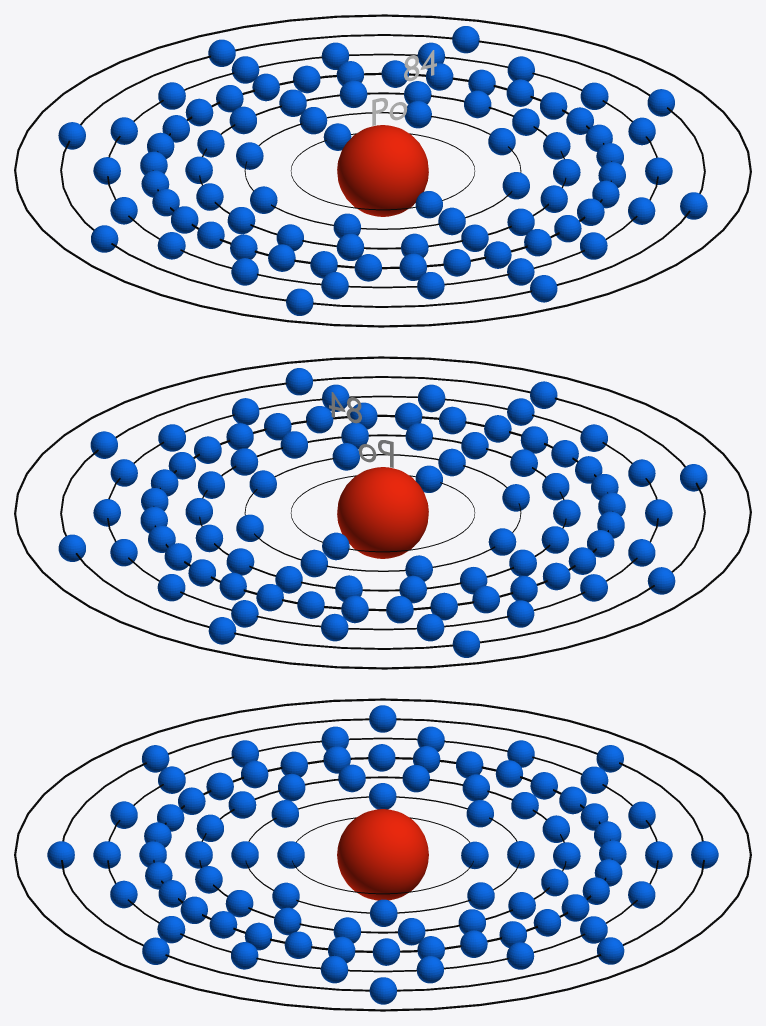
The picture shows the model from 3 angles, top to bottom: view 1: azimuth 30°, elevation 25°; view 2: azimuth 150°, elevation 25°; view 3: azimuth 270°, elevation 25°; orthographic projection.
Parts seen in each view (by area): view 1: Po4, Po5, Po3, Proton, Po6, Po2, n7, n6, n5, Po1, n3, n4 (+1 smaller); view 2: Po4, Po5, Po3, Proton, Po6, Po2, n7, n6, n5, Po1, n3, n4 (+1 smaller); view 3: Po4, Po3, Po5, Proton, Po2, Po6, n7, n6, n5, Po1, n3, n4 (+2 smaller).
Boxes of the visible parts, x1,y1,x2,y2 form: Po4: (140,60,625,281); Po5: (93,42,672,299); Po3: (185,80,580,260); Proton: (337,125,428,216); Po6: (58,26,707,315); Po2: (236,101,529,238); n7: (14,14,751,327); n6: (60,34,705,307); n5: (107,53,658,288); Po1: (323,123,442,218); n3: (199,92,566,249); n4: (152,72,611,269); Po4: (140,402,625,623); Po5: (93,384,672,641); Po3: (185,422,580,603); Proton: (337,467,428,558); Po6: (58,368,707,657); Po2: (236,443,529,581); n7: (14,356,751,669); n6: (60,376,705,649); n5: (107,395,658,630); Po1: (322,465,442,560); n3: (199,434,566,591); n4: (153,414,613,611); Po4: (139,744,626,965); Po3: (185,764,580,945); Po5: (93,726,672,983); Proton: (337,809,428,900); Po2: (231,783,534,926); Po6: (47,705,718,1004); n7: (14,698,751,1011); n6: (61,718,704,991); n5: (107,737,658,972); Po1: (277,841,488,869); n3: (199,776,566,933); n4: (153,757,612,952).
Size of the model in its own units: 802 by 180 by 802.
